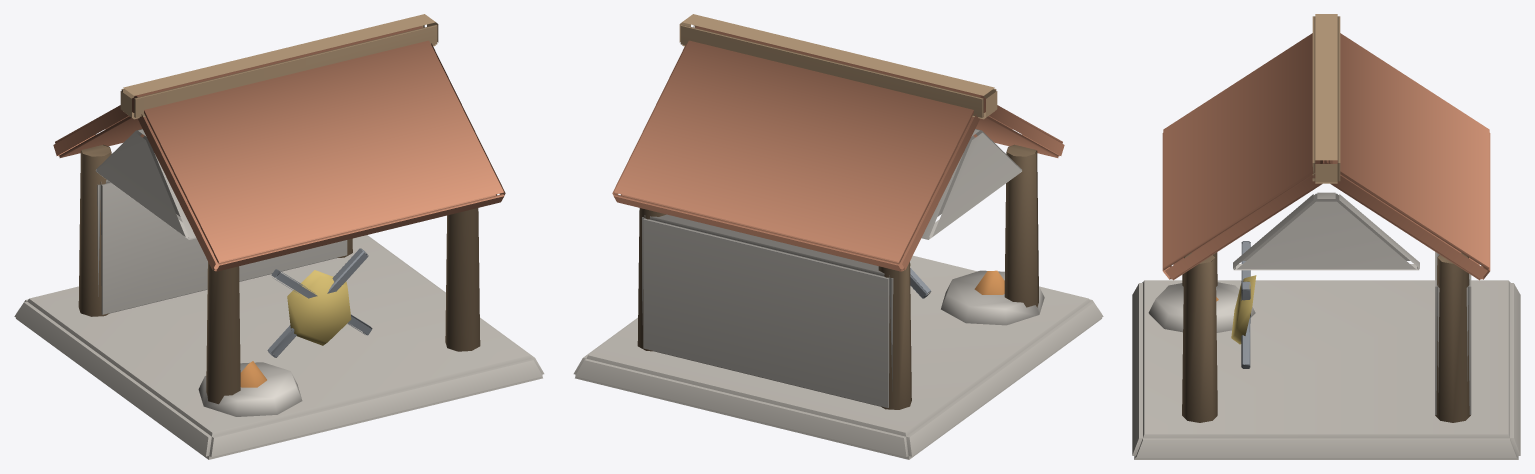
The model's file is study_barracks_camp_lod1.glb.
The picture shows the model from 3 angles, left to right: view 1: azimuth 30°, elevation 25°; view 2: azimuth 150°, elevation 25°; view 3: azimuth 270°, elevation 25°; orthographic projection.
Visible parts, largest first — view 1: study_barracks_camp.001; view 2: study_barracks_camp.001; view 3: study_barracks_camp.001.
Part boxes in pixels (left/top/right/bottom): study_barracks_camp.001: left=14, top=14, right=544, bottom=459; study_barracks_camp.001: left=573, top=14, right=1103, bottom=459; study_barracks_camp.001: left=1132, top=14, right=1520, bottom=459.
Size of the model in its own units: 3.62 by 3 by 3.62.
